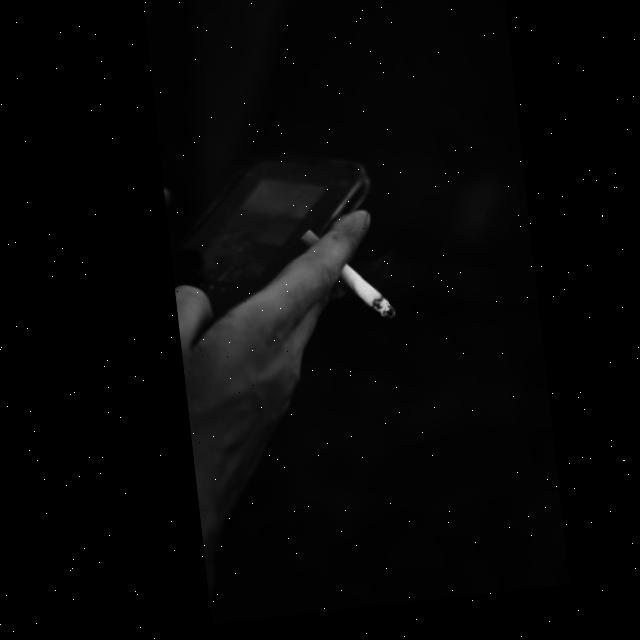cigarette: (293, 229, 389, 334)
